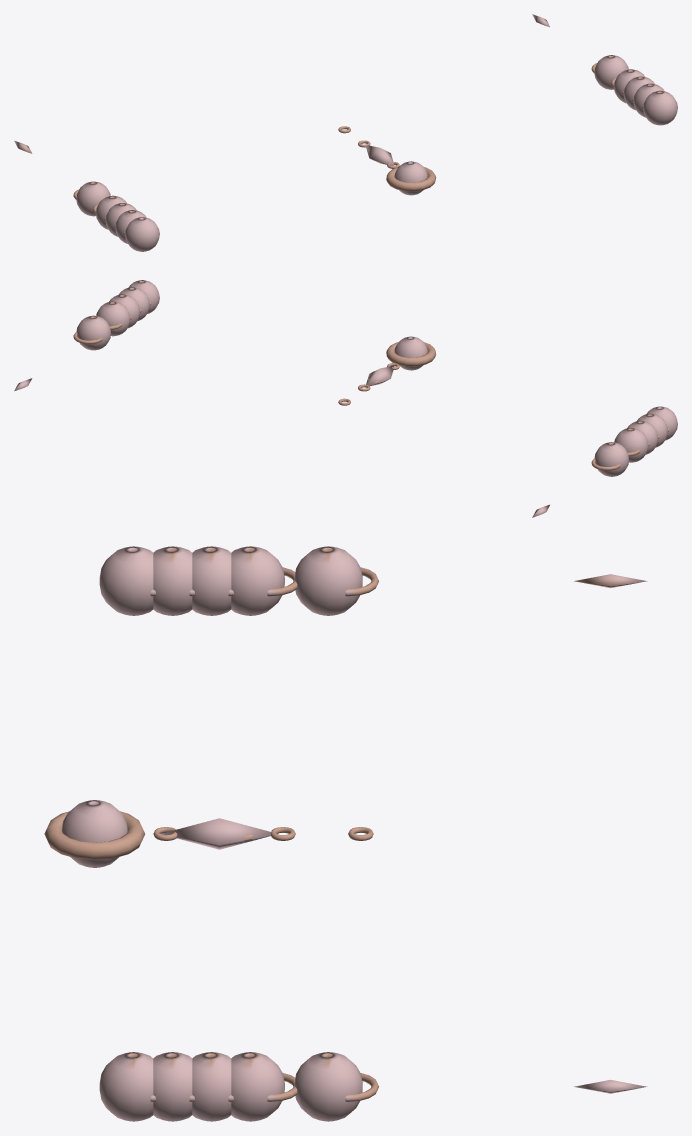
File: lelu_pendant_reconstructed.glb
3 views of the same model, one above another, from view 1: azimuth 30°, elevation 25°; view 2: azimuth 150°, elevation 25°; view 3: azimuth 270°, elevation 25° (orthographic). The views are drawn at different scales.
Visible parts, largest first — view 1: lelu_pendant; view 2: lelu_pendant; view 3: lelu_pendant.
Part boxes in pixels (<box>): lelu_pendant: <box>14,14,677,251</box>; lelu_pendant: <box>14,280,677,517</box>; lelu_pendant: <box>44,546,647,1121</box>.
Bounding box in the file's own units: 0.9215 × 0.051 × 0.4389.
